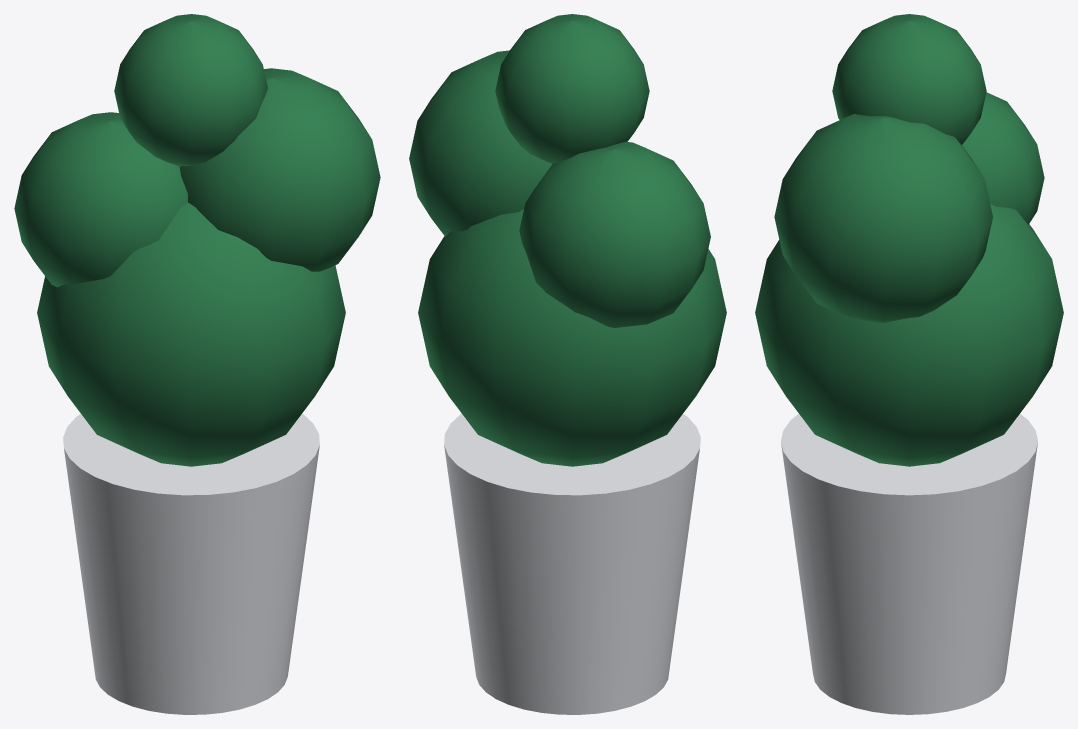
File: potted_plant.glb
The picture shows the model from 3 angles, left to right: view 1: azimuth 30°, elevation 25°; view 2: azimuth 150°, elevation 25°; view 3: azimuth 270°, elevation 25°; orthographic projection.
Visible parts, largest first — view 1: potted_plant; view 2: potted_plant; view 3: potted_plant.
Boxes of the visible parts, x1=… form: potted_plant: x1=14, y1=14, x2=380, y2=714; potted_plant: x1=409, y1=14, x2=726, y2=714; potted_plant: x1=755, y1=14, x2=1063, y2=714.
Bounding box in the file's own units: 0.55 × 1.12 × 0.48.
